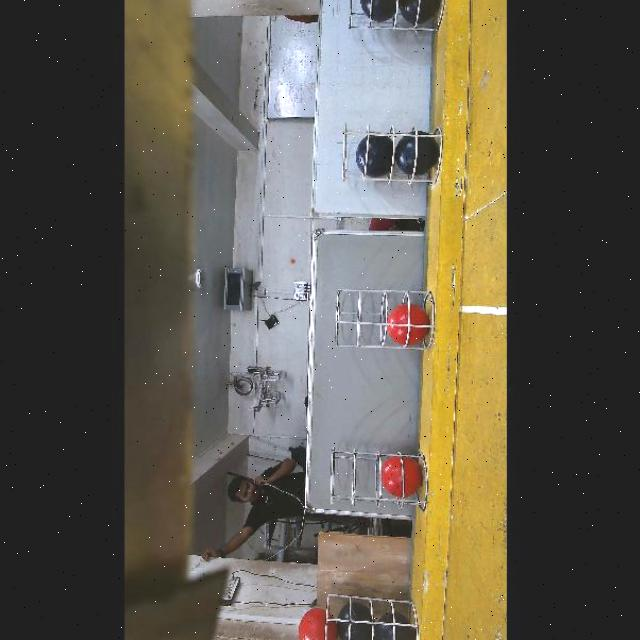P: (395, 132, 436, 174), (354, 136, 393, 179), (335, 604, 374, 640), (358, 0, 400, 26), (373, 614, 414, 640), (401, 0, 441, 21)
R: (381, 455, 422, 498), (387, 303, 428, 342), (298, 605, 338, 640)
S: (329, 284, 438, 352), (322, 450, 426, 520), (346, 124, 450, 184), (326, 586, 428, 640), (343, 0, 449, 38)
